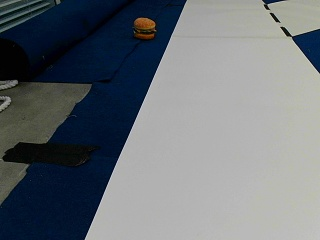burger: (132, 15, 156, 39)
